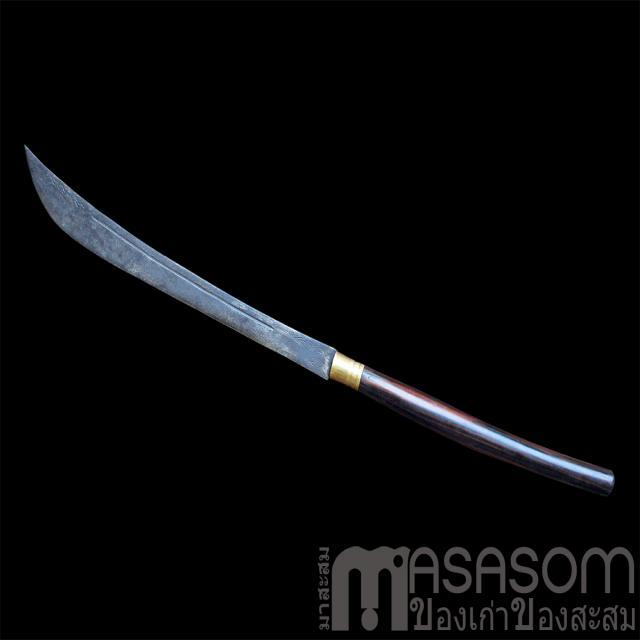long sword: (12, 140, 621, 500)
